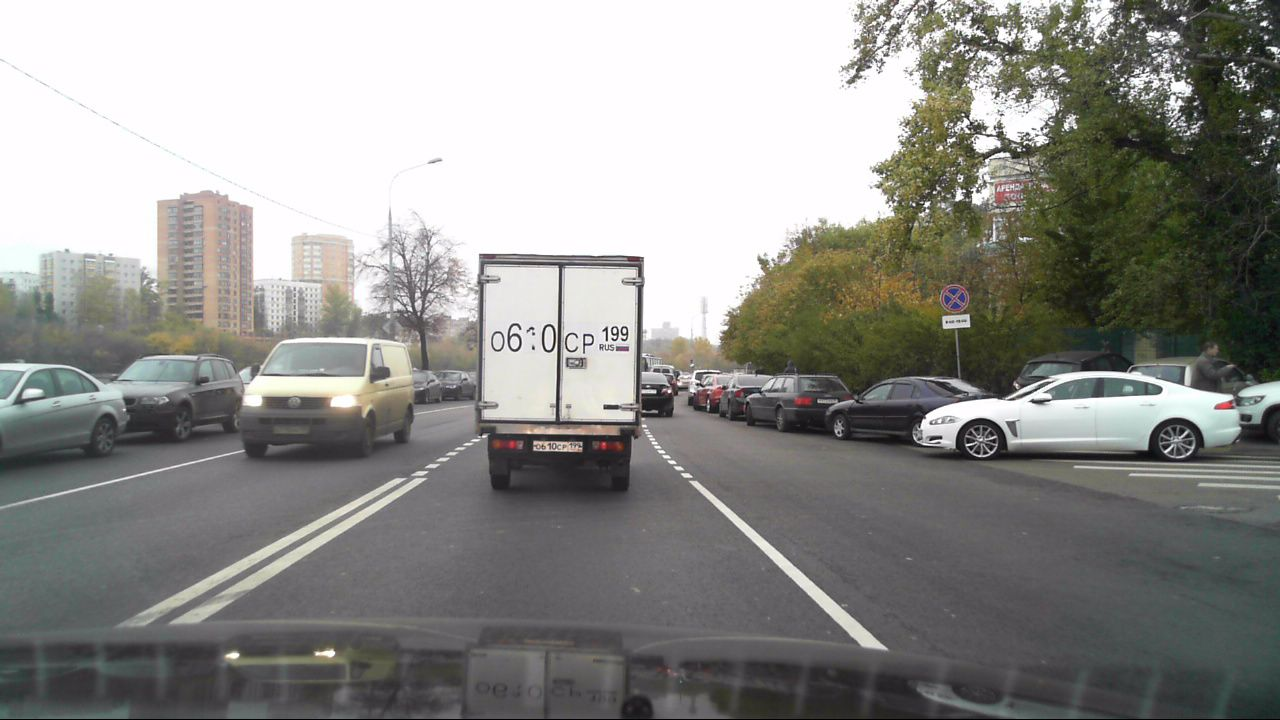No Parking: (938, 282, 969, 312)
